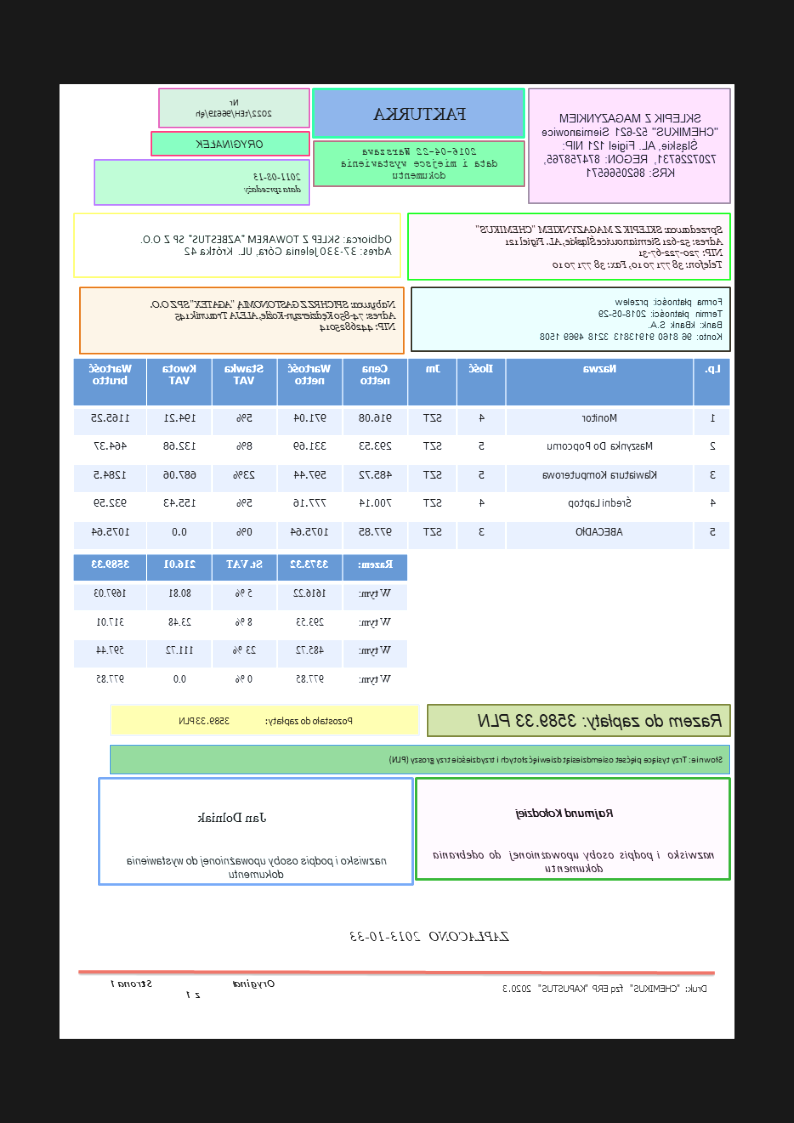Table: (72, 357, 732, 551), (72, 552, 409, 698)
TextBox: (472, 222, 727, 272), (539, 111, 720, 180), (148, 297, 398, 334), (539, 295, 726, 343), (432, 848, 717, 875), (126, 853, 388, 881), (139, 232, 394, 258), (338, 145, 500, 182), (475, 709, 725, 730), (388, 753, 726, 766), (108, 978, 277, 1000), (502, 981, 709, 995), (349, 928, 510, 944), (179, 714, 354, 727), (194, 97, 274, 121), (372, 105, 470, 123), (243, 170, 304, 196), (514, 806, 616, 821), (195, 809, 269, 826), (194, 136, 266, 151)
